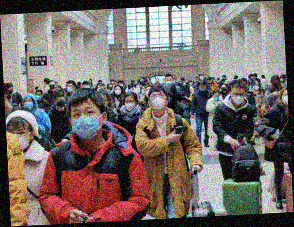with_mask: (72, 105, 102, 142), (9, 128, 30, 151), (150, 92, 167, 111), (231, 90, 246, 105), (23, 98, 34, 111), (125, 99, 136, 111), (55, 98, 66, 108), (281, 92, 288, 107), (66, 83, 74, 94), (34, 92, 42, 102), (165, 78, 173, 86), (199, 85, 207, 92), (213, 94, 220, 102), (253, 83, 260, 91), (273, 80, 280, 88), (49, 83, 56, 90), (115, 88, 122, 95), (221, 85, 227, 93), (141, 87, 146, 95), (83, 83, 89, 89), (128, 87, 134, 93), (200, 75, 205, 80), (208, 79, 213, 84), (189, 81, 193, 86), (280, 77, 284, 82)
